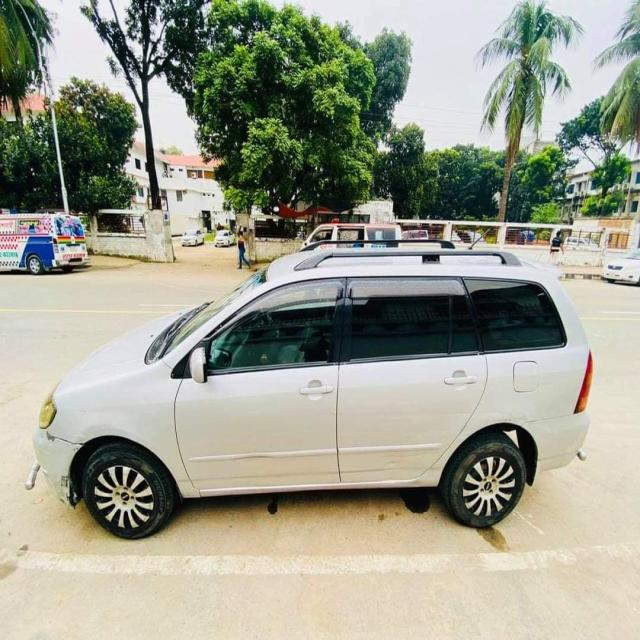white: (25, 253, 606, 524)
